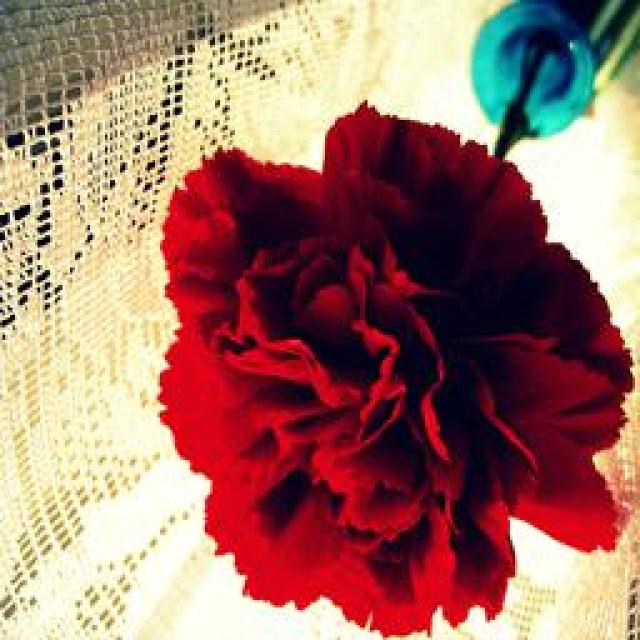carnation: (150, 113, 640, 640)
